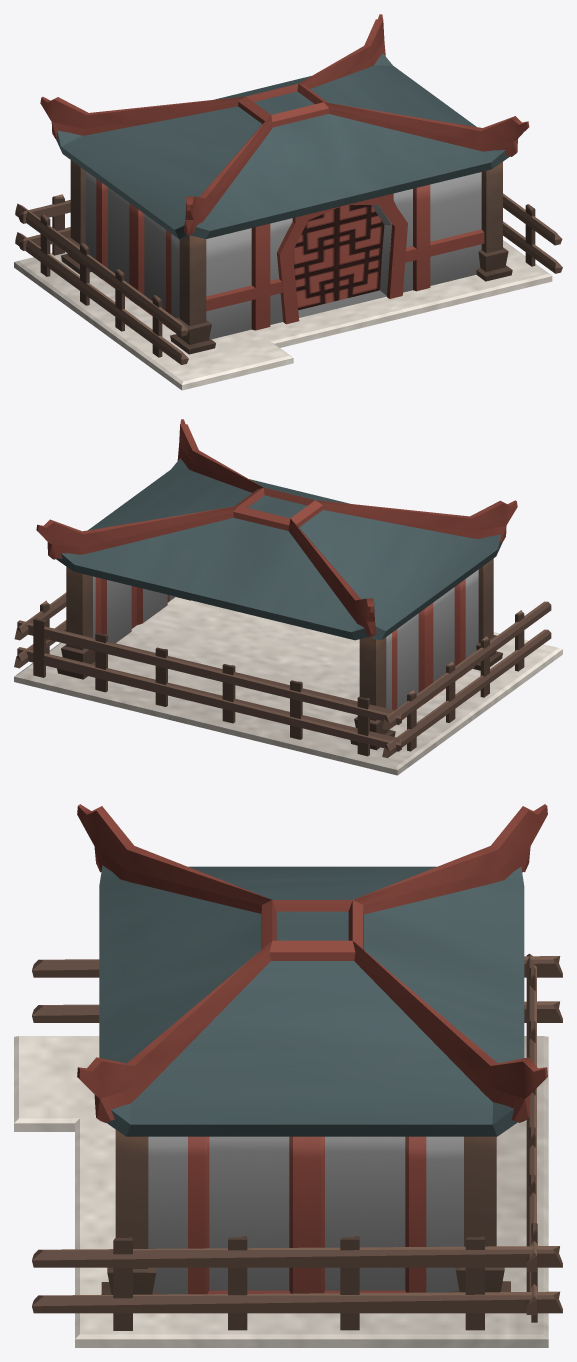
Rendered from blacksmith_2lvl.fbx.
3 renders of one model, top to bottom at view 1: azimuth 30°, elevation 25°; view 2: azimuth 150°, elevation 25°; view 3: azimuth 270°, elevation 25°, orthographic. The views are drawn at different scales.
Parts seen in each view (by area): view 1: blacksmith_2lvl; view 2: blacksmith_2lvl; view 3: blacksmith_2lvl.
Part boxes in pixels (x1,y1,x2,y2): blacksmith_2lvl: (14,14,562,390); blacksmith_2lvl: (14,419,562,775); blacksmith_2lvl: (14,804,562,1347).
Size of the model in its own units: 6.01 by 2.57 by 4.6.
Materials: 1 (1 with a texture image).
